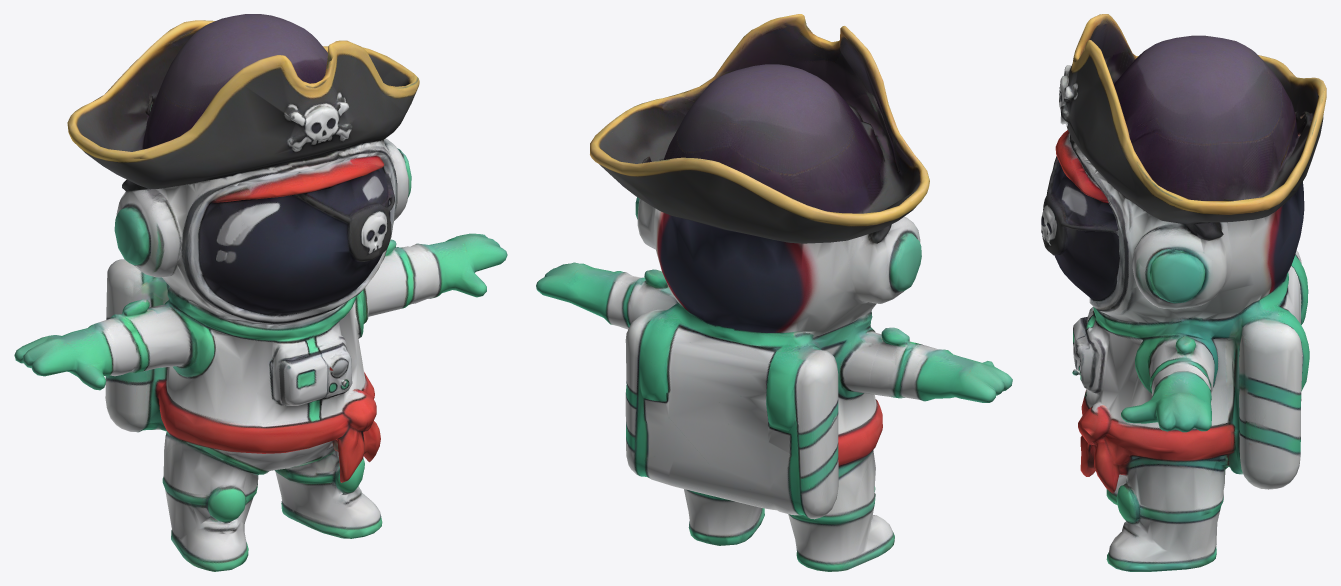
File: hero3d-astro2-anim.glb
3 views of the same model, side by side, from view 1: azimuth 30°, elevation 25°; view 2: azimuth 150°, elevation 25°; view 3: azimuth 270°, elevation 25° (orthographic). The views are drawn at different scales.
Size of the model in its own units: 1.95 by 2 by 1.03.
1 material, 1 textured.
